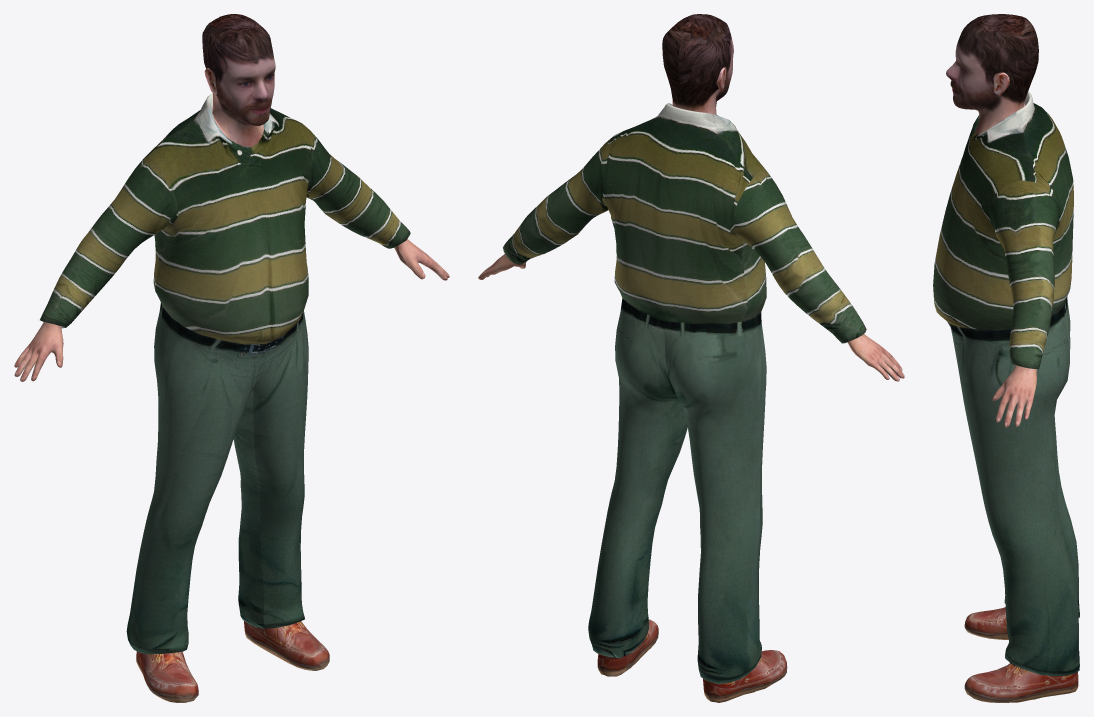
File: Casual_Man.obj
3 renders of one model, left to right at view 1: azimuth 30°, elevation 25°; view 2: azimuth 150°, elevation 25°; view 3: azimuth 270°, elevation 25°, orthographic.
Visible parts, largest first — view 1: CasualMan; view 2: CasualMan; view 3: CasualMan.
Boxes of the visible parts, x1,y1,x2,y2 form: CasualMan: [14, 14, 449, 702]; CasualMan: [478, 14, 904, 702]; CasualMan: [933, 14, 1079, 702].
Size of the model in its own units: 2.53 by 3.7 by 0.7596.
1 material, 1 textured.
